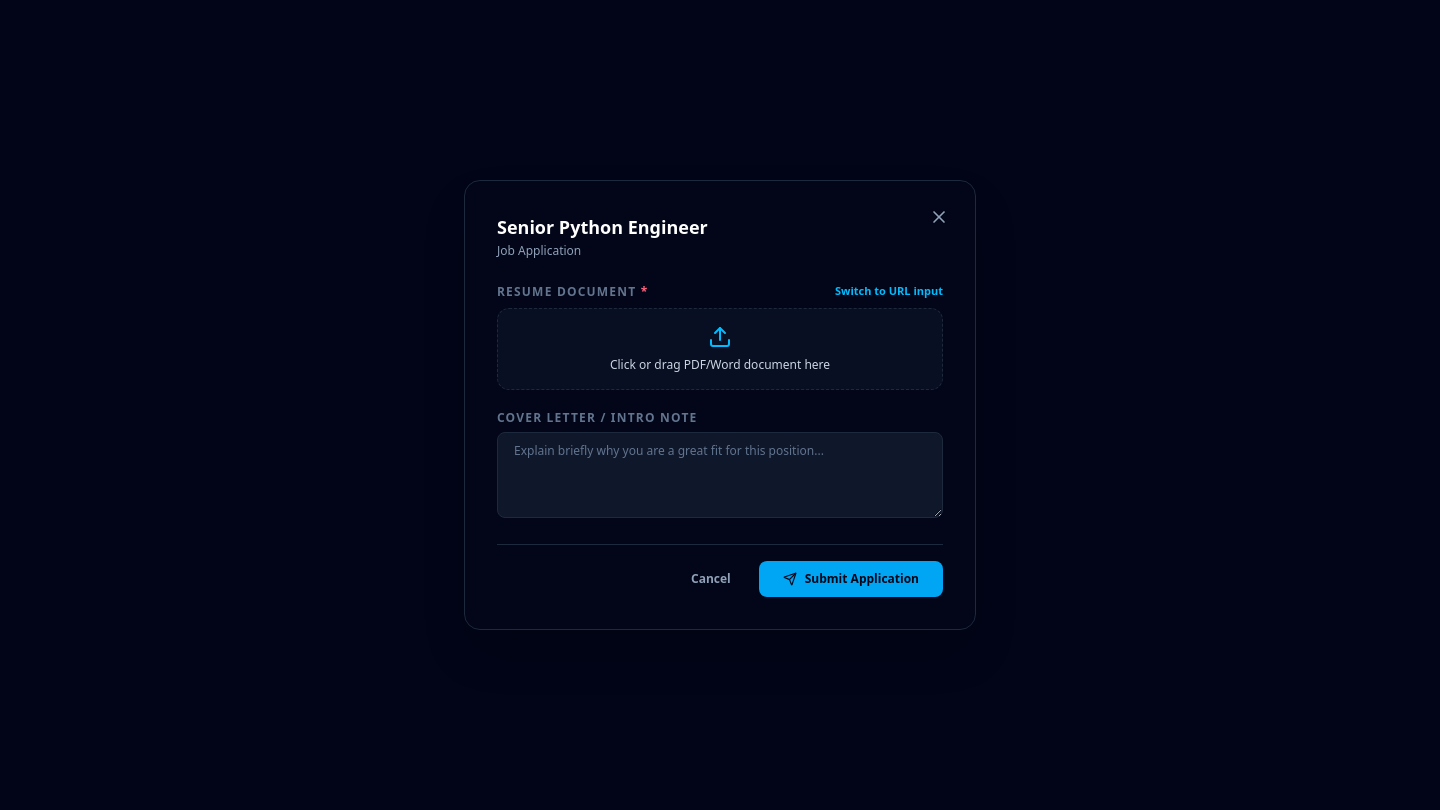
Test: ApplyModal Component › renders error message when submitting without resume file or URL
The width and height of the screenshot is (1440, 810).
Click the button "Submit Application" at (851, 579), box [759, 561, 943, 597]
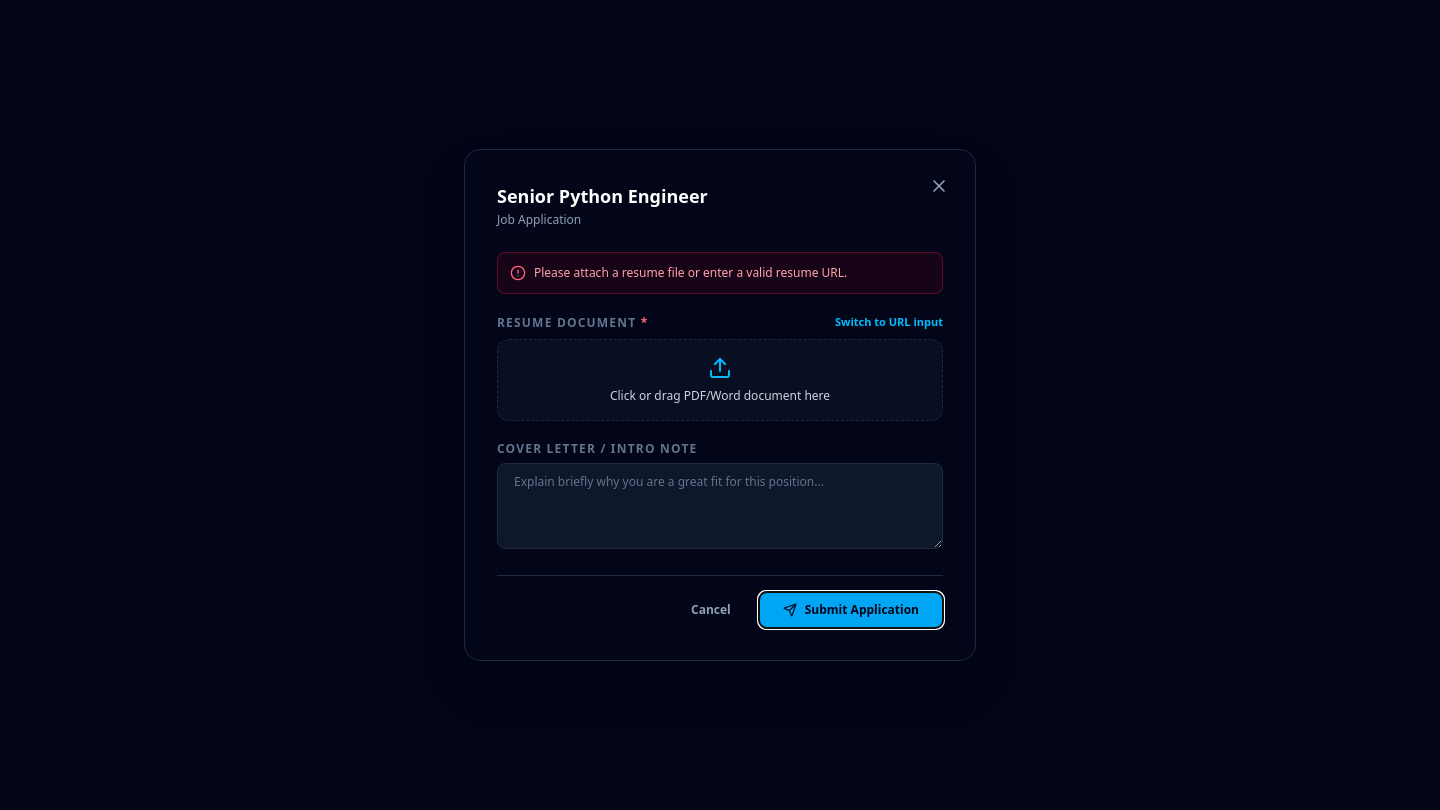
expect the text "Please attach a resume file or enter a valid resume URL." is shown: met, box [534, 265, 847, 281]
